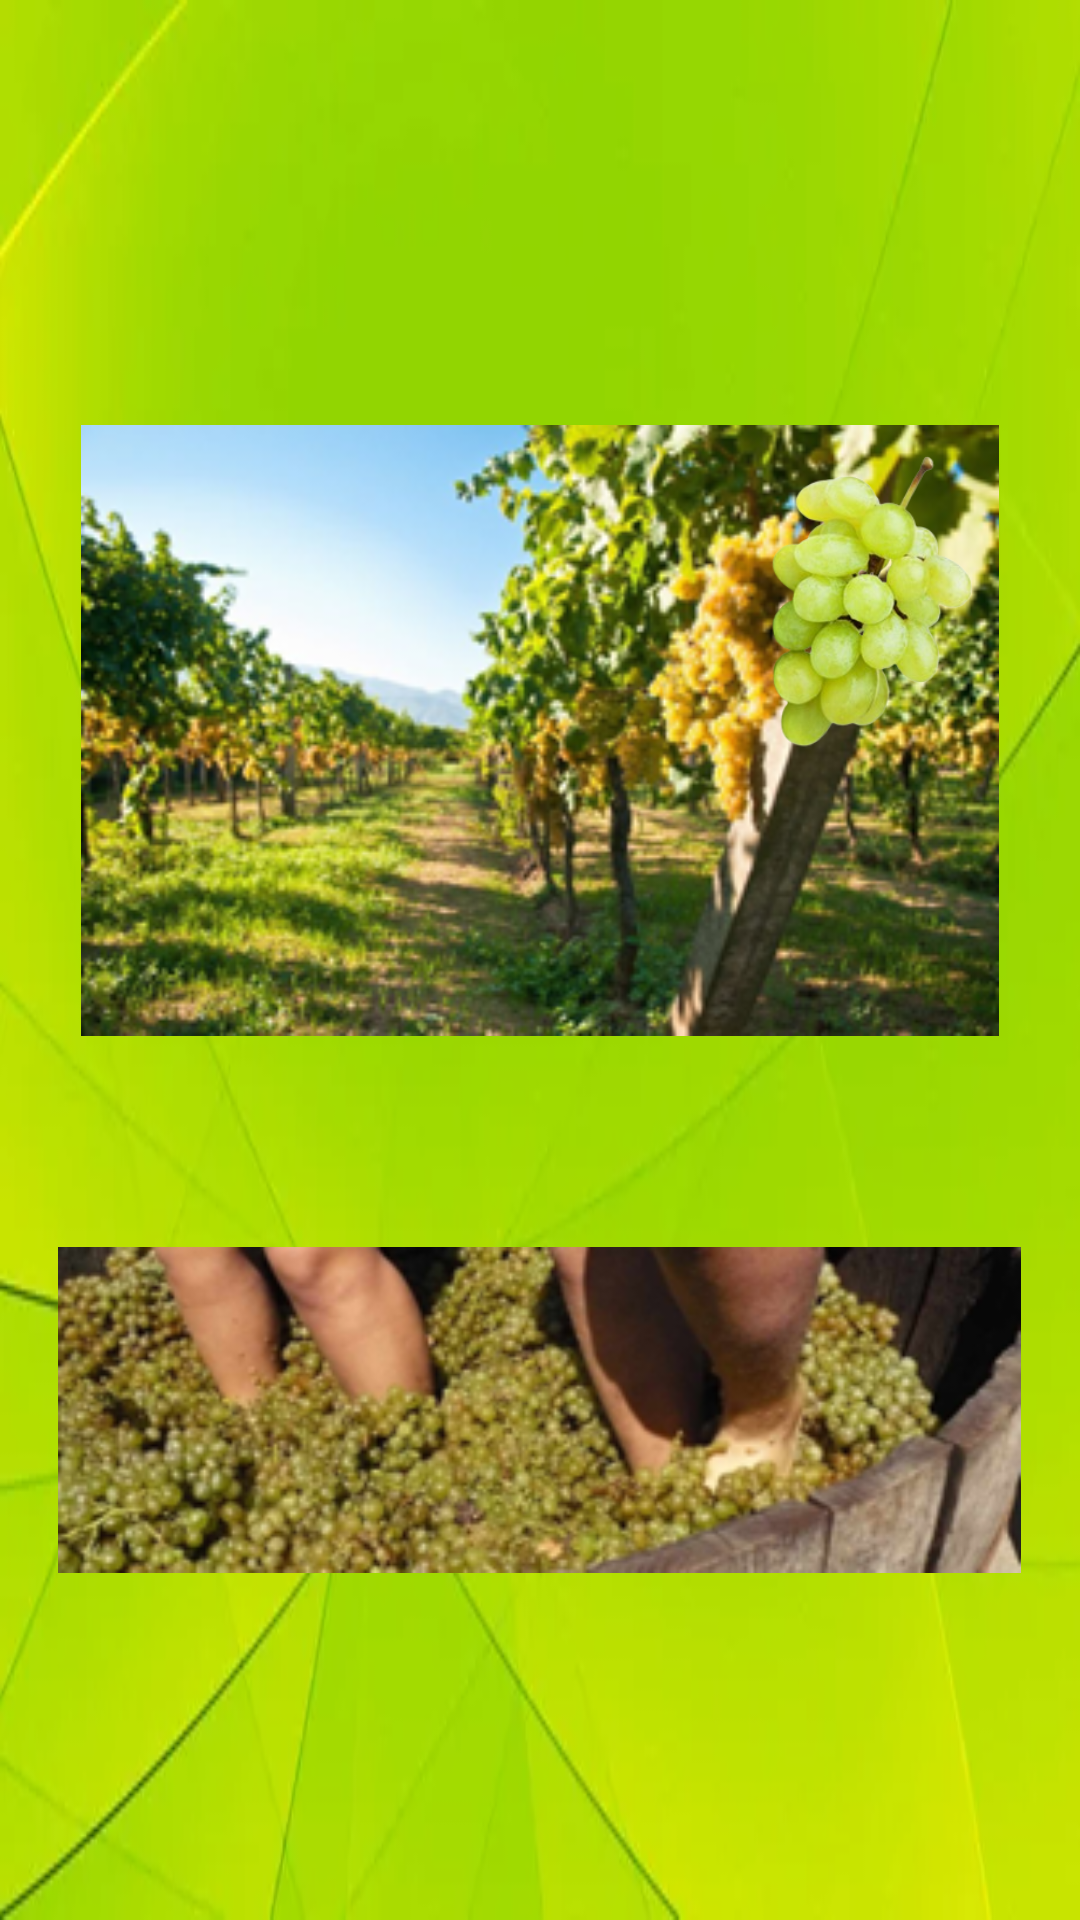

Named icons in this screenshot (1080×1920) and their centers, (x=x, y=y):
uva: (x=870, y=600)
